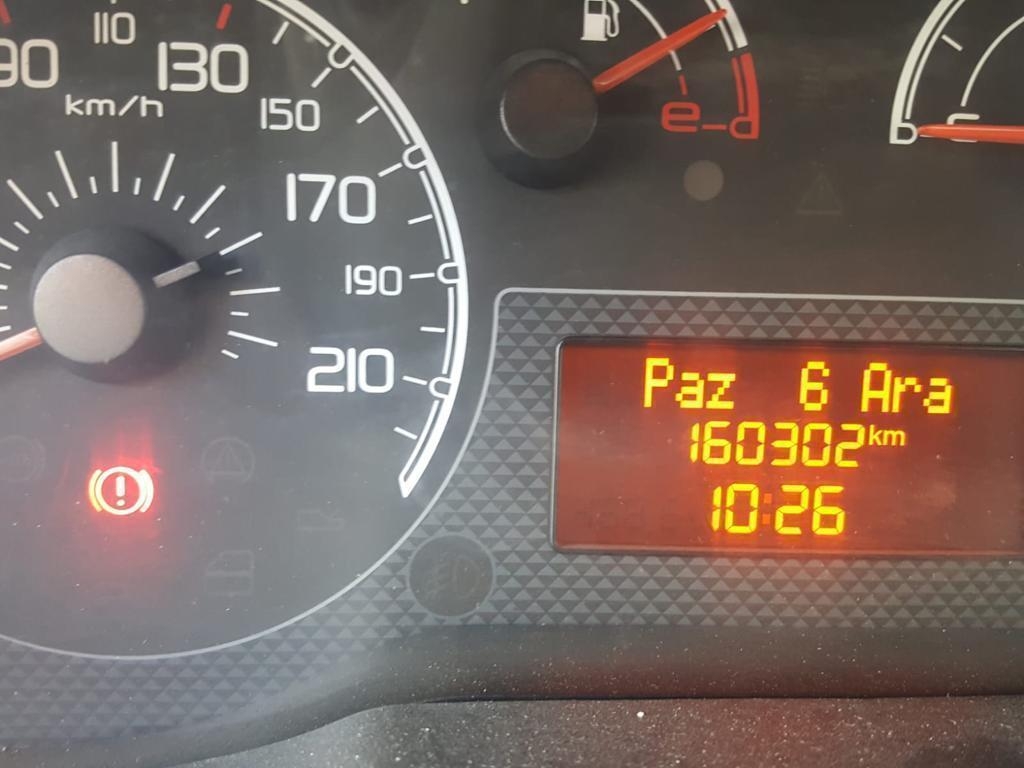0: (724, 480, 759, 536), (734, 418, 767, 468), (801, 419, 832, 469)
1: (706, 483, 722, 534), (685, 418, 699, 466)
2: (775, 480, 809, 537), (833, 420, 866, 471)
3: (769, 418, 799, 469)
6: (811, 482, 846, 538), (797, 358, 831, 414), (701, 417, 732, 467)
X: (639, 353, 675, 410), (858, 359, 891, 414), (705, 369, 736, 410), (892, 372, 922, 414), (924, 374, 953, 415), (675, 369, 704, 410), (760, 490, 774, 528), (883, 427, 906, 448), (868, 420, 881, 447)
odometer: (543, 328, 1024, 565)
